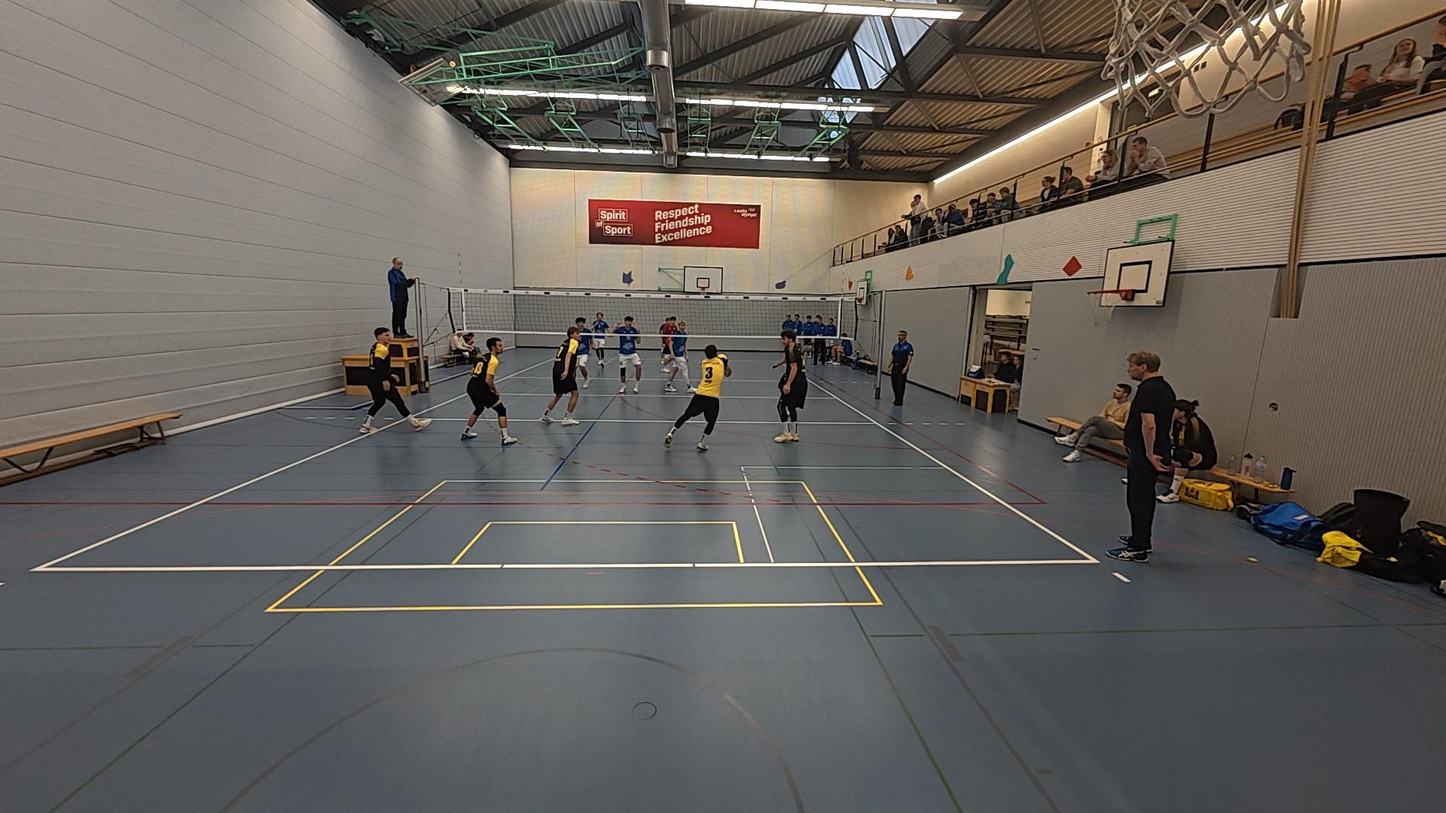Player: (360, 327, 429, 432), (460, 337, 516, 445), (541, 325, 583, 426), (774, 325, 808, 443), (612, 315, 641, 396), (657, 314, 684, 389), (569, 315, 592, 390), (584, 313, 610, 377), (659, 316, 677, 372)
Receive: (664, 344, 731, 451)
ball: (901, 265, 916, 280), (712, 353, 729, 366)
